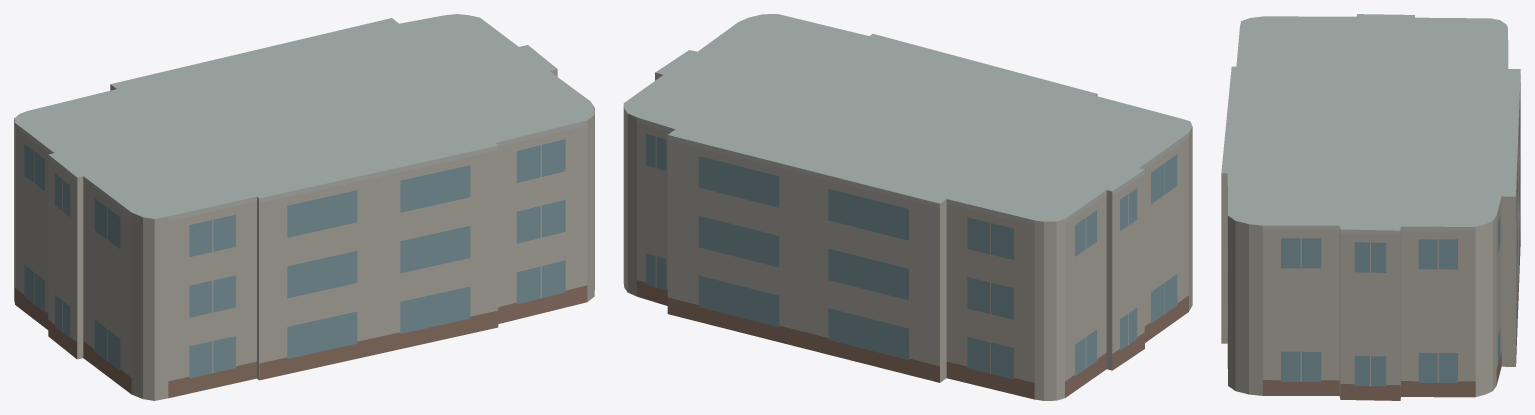
File: survey-upis-32585356.glb
The picture shows the model from 3 angles, left to right: view 1: azimuth 30°, elevation 25°; view 2: azimuth 150°, elevation 25°; view 3: azimuth 270°, elevation 25°; orthographic projection. The views are drawn at different scales.
Visible parts, largest first — view 1: survey-upis-32585356.tmp; view 2: survey-upis-32585356.tmp; view 3: survey-upis-32585356.tmp.
Part boxes in pixels (box(x1,y1,x2,y2)): survey-upis-32585356.tmp: box(14, 14, 594, 400); survey-upis-32585356.tmp: box(623, 14, 1192, 400); survey-upis-32585356.tmp: box(1221, 14, 1520, 400).
Size of the model in its own units: 24.96 by 9.15 by 14.59.
